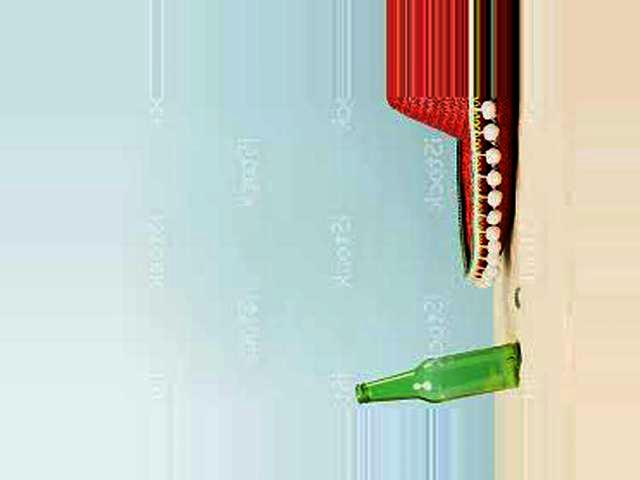beer: (355, 341, 524, 401)
